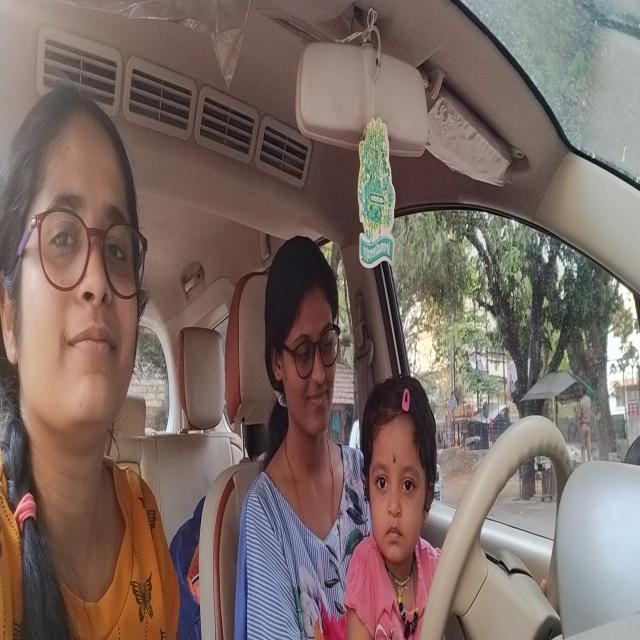child: (361, 363, 442, 564)
person: (3, 76, 149, 461), (264, 220, 342, 441)
